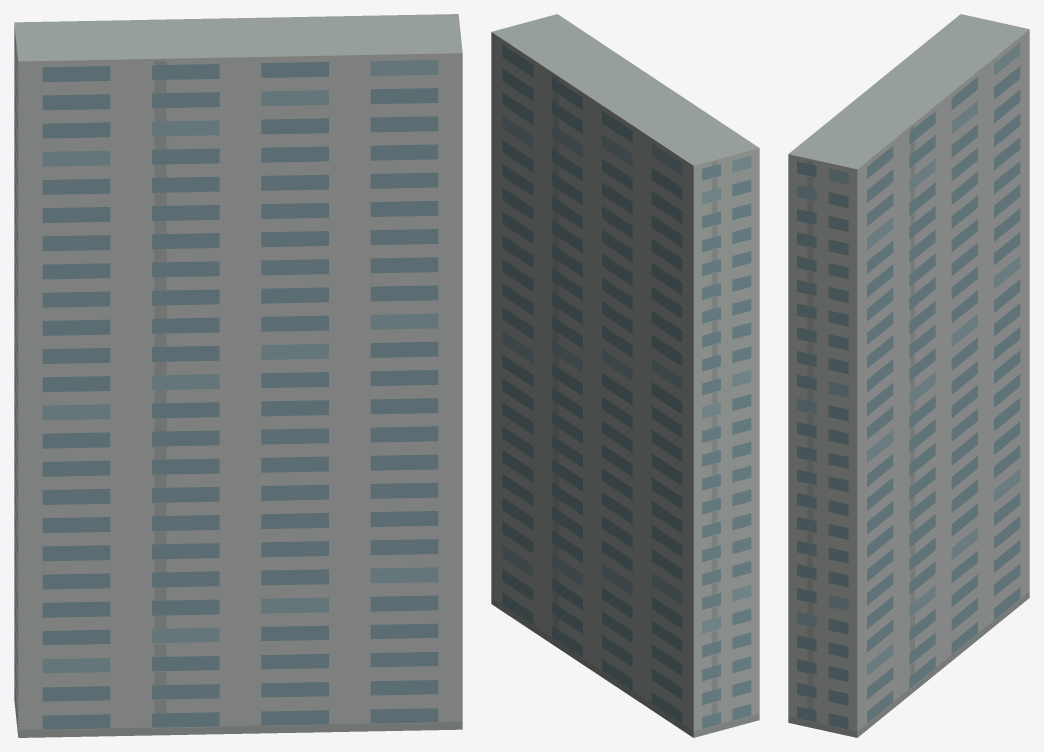
The model's file is residential-e7d9015e-d72b-4421-a0de-44cff5679a2f.glb.
The picture shows the model from 3 angles, left to right: view 1: azimuth 30°, elevation 25°; view 2: azimuth 150°, elevation 25°; view 3: azimuth 270°, elevation 25°; orthographic projection. The views are drawn at different scales.
Parts seen in each view (by area): view 1: residential-e7d9015e-d72b-4421-a0de-44cff5679a2f.tmp; view 2: residential-e7d9015e-d72b-4421-a0de-44cff5679a2f.tmp; view 3: residential-e7d9015e-d72b-4421-a0de-44cff5679a2f.tmp.
Part boxes in pixels (x1=…): residential-e7d9015e-d72b-4421-a0de-44cff5679a2f.tmp: x1=14, y1=14, x2=462, y2=737; residential-e7d9015e-d72b-4421-a0de-44cff5679a2f.tmp: x1=491, y1=14, x2=759, y2=737; residential-e7d9015e-d72b-4421-a0de-44cff5679a2f.tmp: x1=788, y1=14, x2=1029, y2=737.
Bounding box in the file's own units: 42.91 × 73.2 × 28.2.
